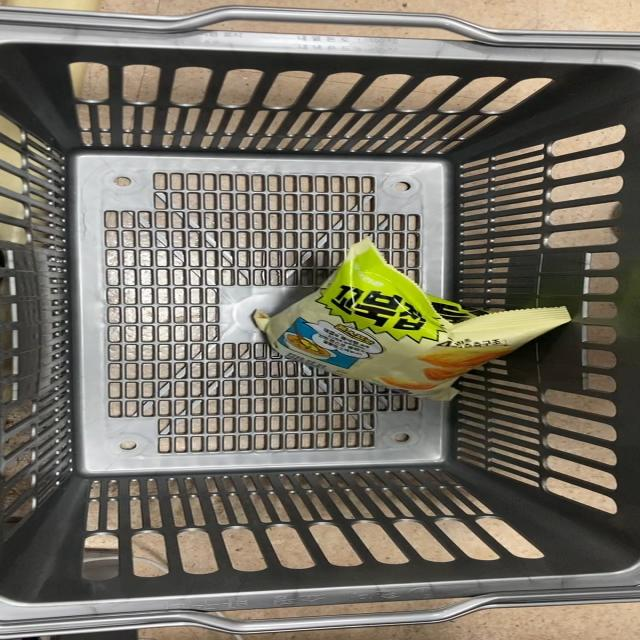ggobukchip: (235, 232, 589, 394)
